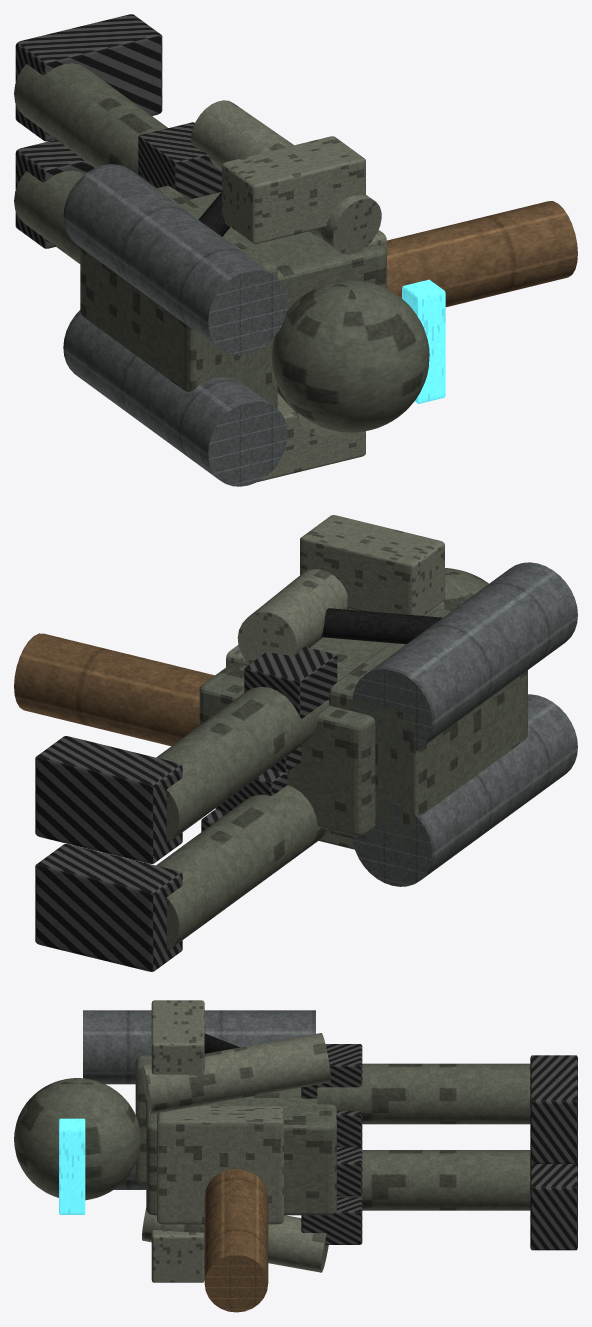
The model's file is v-u08-vanguard-flamethrower-lod0.glb.
3 views of the same model, one above another, from view 1: azimuth 30°, elevation 25°; view 2: azimuth 150°, elevation 25°; view 3: azimuth 270°, elevation 25° (orthographic). The views are drawn at different scales.
Visible parts, largest first — view 1: fuel_tank_1, soldier_0_helmet, fuel_tank_-1, soldier_0_flamer, soldier_0_backpack, soldier_0_shoulder_1, soldier_0_leg_1, soldier_0_boot_1, soldier_0_arm_1, soldier_0_torso, soldier_0_pouch_3, soldier_0_leg_-1 (+4 smaller); view 2: fuel_tank_1, soldier_0_backpack, fuel_tank_-1, soldier_0_flamer, soldier_0_boot_-1, soldier_0_boot_1, soldier_0_leg_-1, soldier_0_leg_1, soldier_0_torso, soldier_0_shoulder_1, soldier_0_arm_1, soldier_0_pouch_3 (+3 smaller); view 3: soldier_0_chest, soldier_0_leg_1, soldier_0_leg_-1, soldier_0_helmet, soldier_0_arm_1, soldier_0_flamer, soldier_0_torso, fuel_tank_1, soldier_0_boot_1, soldier_0_boot_-1, soldier_0_shoulder_1, soldier_0_arm_-1 (+8 smaller).
Part boxes in pixels (x1,y1,x2,y2): fuel_tank_1: (63,164,287,355); soldier_0_helmet: (272,280,429,432); fuel_tank_-1: (63,310,287,486); soldier_0_flamer: (387,201,577,307); soldier_0_backpack: (80,185,277,408); soldier_0_shoulder_1: (222,136,365,243); soldier_0_leg_1: (14,63,168,188); soldier_0_boot_1: (15,14,162,141); soldier_0_arm_1: (191,100,381,254); soldier_0_torso: (189,192,386,385); soldier_0_pouch_3: (138,122,221,199); soldier_0_leg_-1: (14,170,84,263); fuel_tank_1: (352,562,577,754); soldier_0_backpack: (329,608,527,851); fuel_tank_-1: (352,694,577,886); soldier_0_flamer: (14,633,214,746); soldier_0_boot_-1: (35,844,182,971); soldier_0_boot_1: (35,736,182,863); soldier_0_leg_-1: (156,785,327,950); soldier_0_leg_1: (156,686,329,842); soldier_0_torso: (199,637,389,835); soldier_0_shoulder_1: (300,515,444,615); soldier_0_arm_1: (237,569,355,663); soldier_0_pouch_3: (244,646,337,718); soldier_0_chest: (157,1106,283,1224); soldier_0_leg_1: (317,1063,530,1124); soldier_0_leg_-1: (337,1150,530,1210); soldier_0_helmet: (14,1078,140,1200); soldier_0_arm_1: (142,1033,330,1114); soldier_0_flamer: (204,1168,268,1312); soldier_0_torso: (146,1087,336,1215); fuel_tank_1: (83,1010,315,1084); soldier_0_boot_1: (530,1055,577,1163); soldier_0_boot_-1: (530,1161,577,1250); soldier_0_shoulder_1: (151,1000,204,1075); soldier_0_arm_-1: (142,1208,328,1272).
Size of what is drawn, in the model's own units: 1.56 by 1 by 2.13.
Materials: 7 (7 with a texture image).
